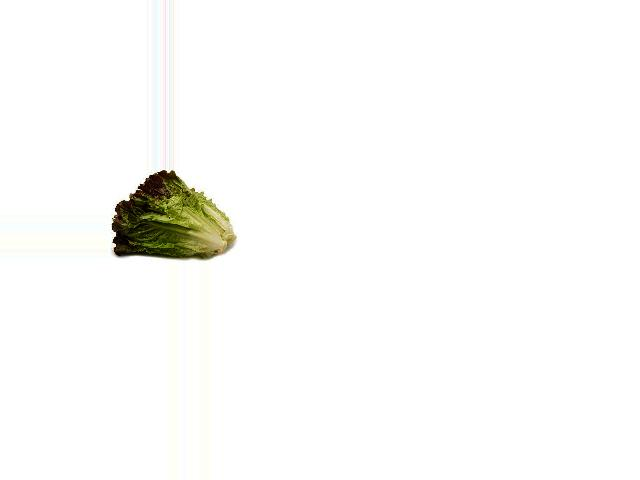lettuce: (109, 172, 233, 256)
